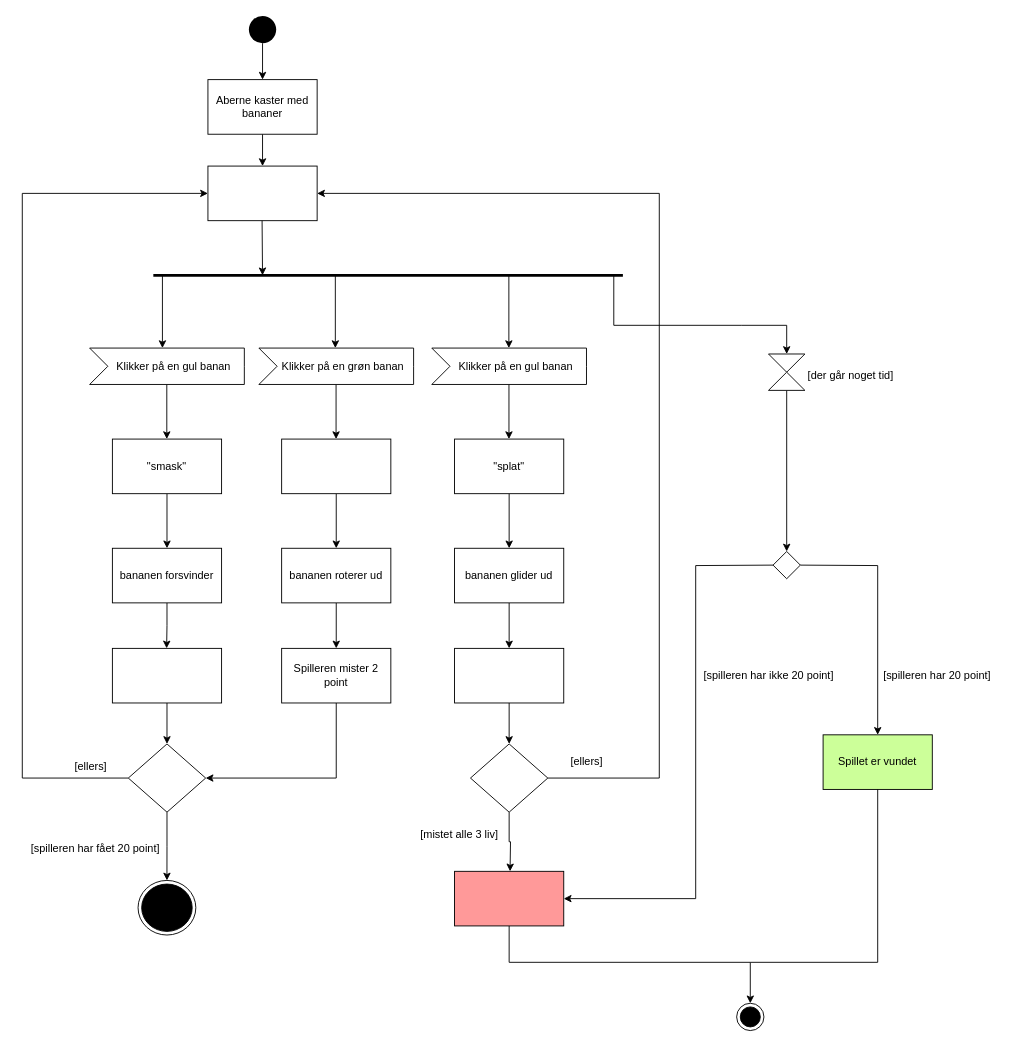
Image size: 1012x1047. Some labels were removed from this diagram. The centre of each missing label's shape, as x and y in pixels:
"eww": (x=336, y=466)
klik på bananerne som falder ned: (x=262, y=193)
spilleren får 1 point: (x=166, y=675)
Spilleren mister 1 liv: (x=509, y=675)
spillet er tabt: (x=509, y=898)
